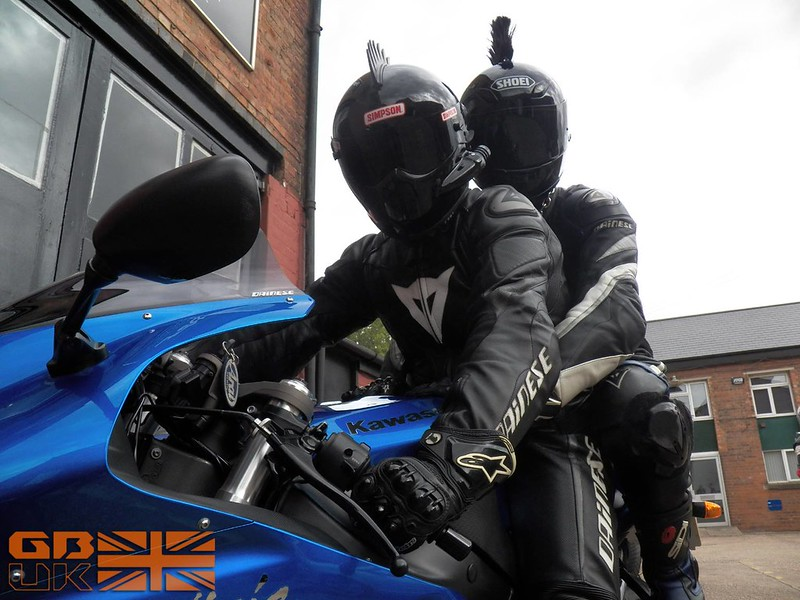helmet: (329, 65, 475, 201), (456, 54, 575, 197)
